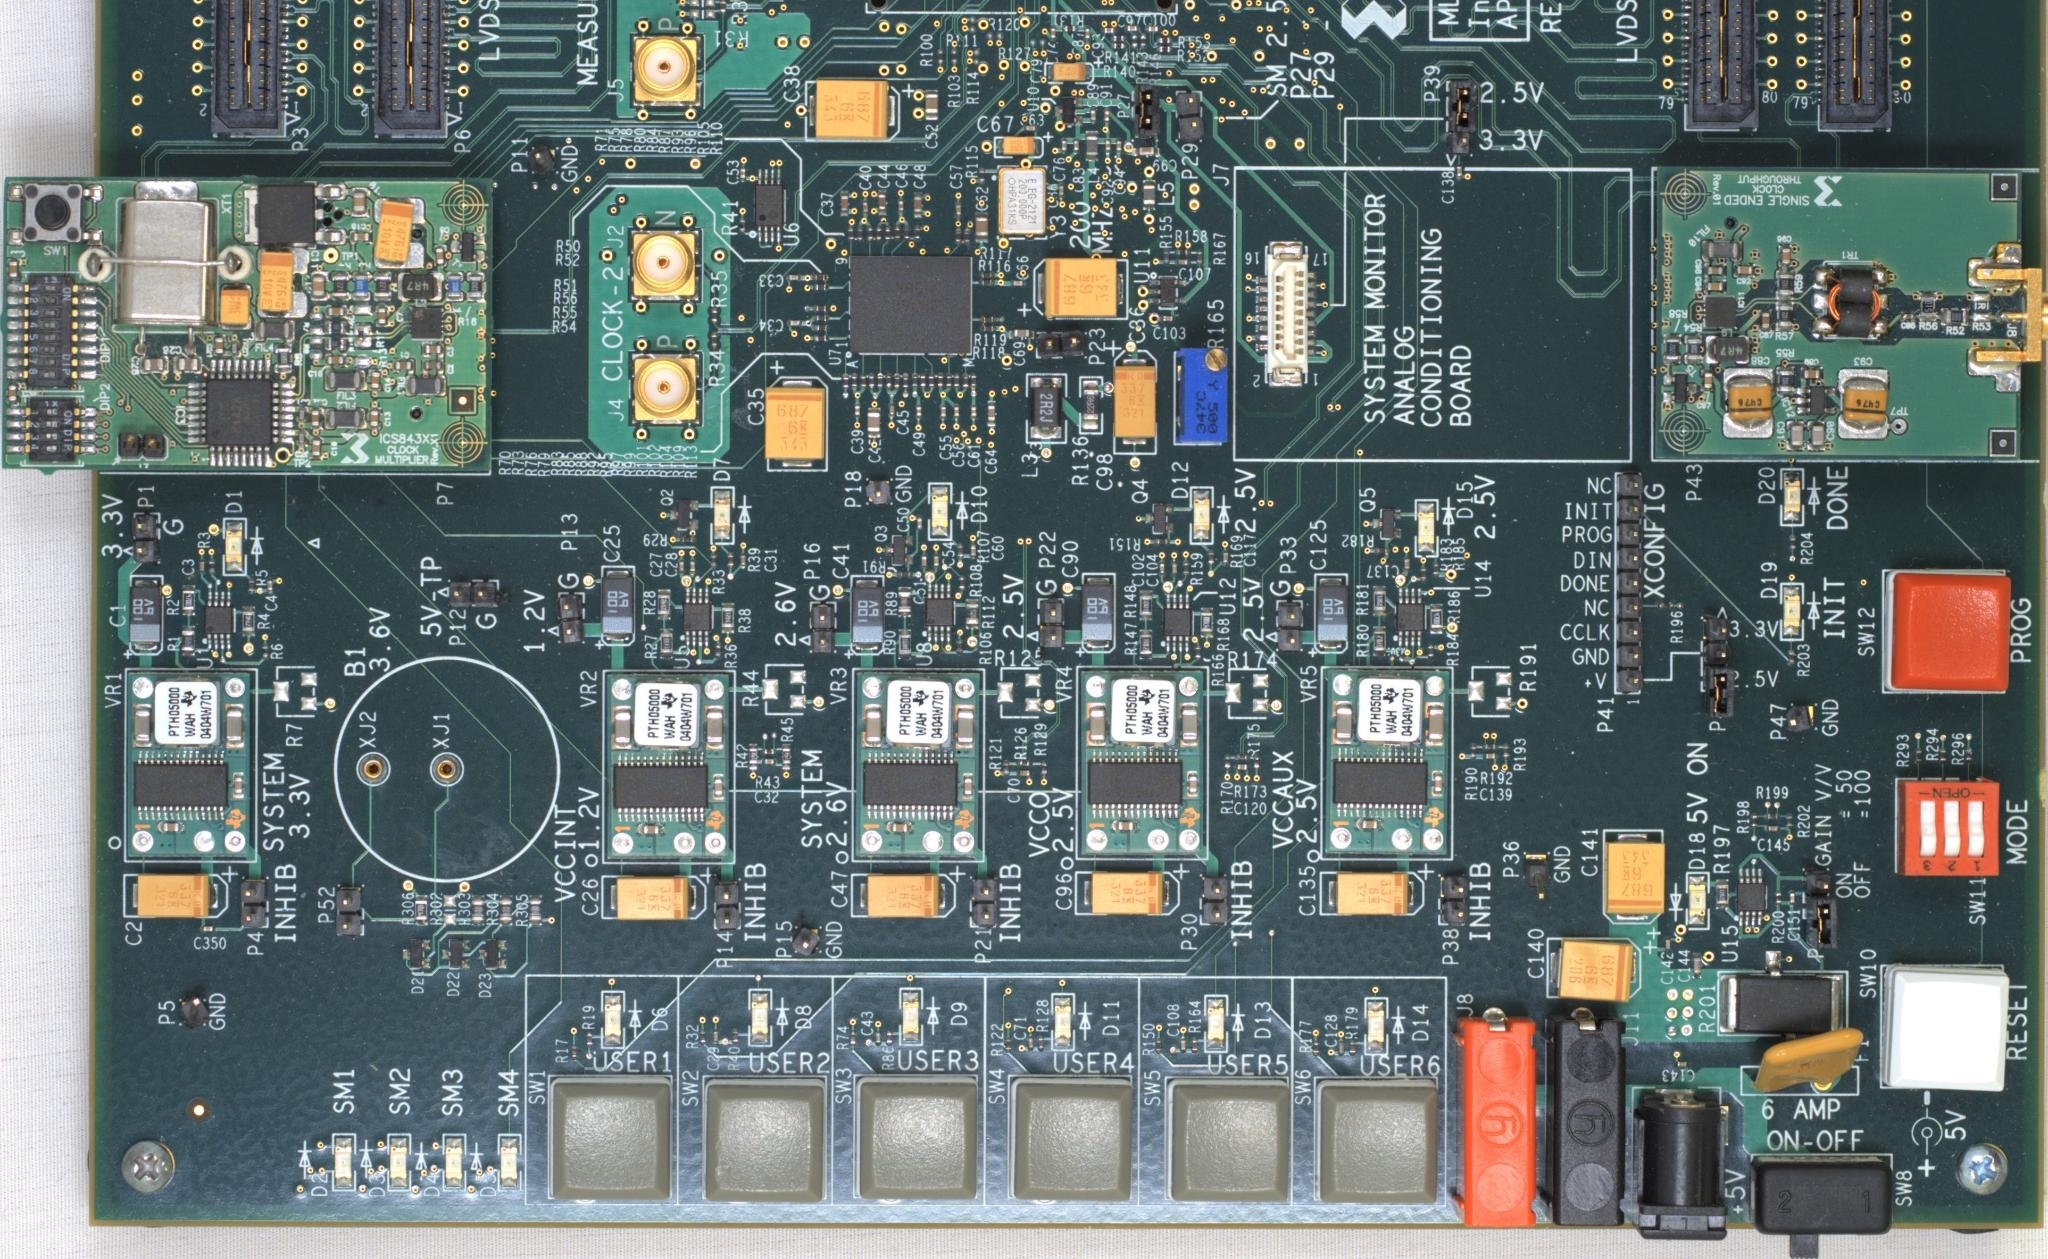tranzystor: (236, 187, 348, 244), (1660, 371, 1704, 412), (663, 502, 701, 544), (1360, 507, 1401, 542), (1137, 503, 1175, 538), (446, 232, 483, 262), (879, 537, 911, 567)
